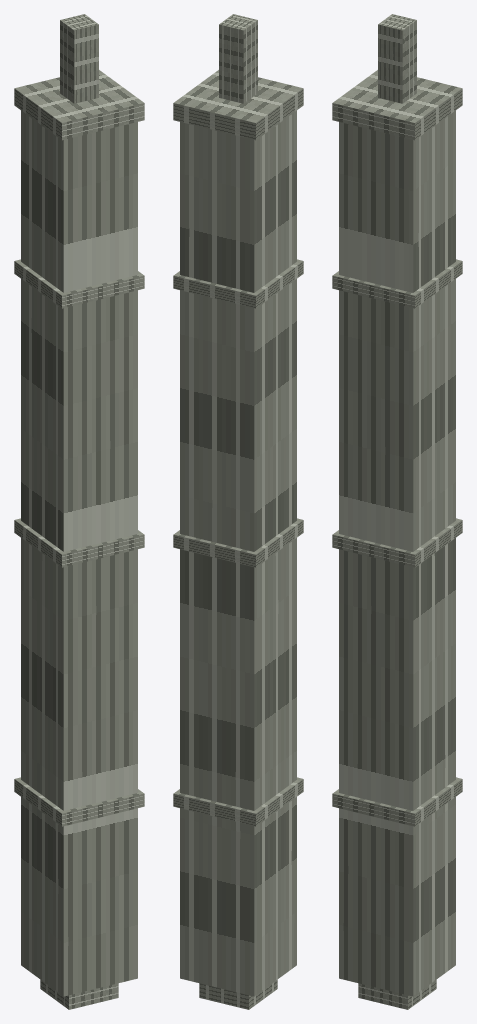
The model's file is body.obj.
3 views of the same model, side by side, from view 1: azimuth 30°, elevation 25°; view 2: azimuth 150°, elevation 25°; view 3: azimuth 330°, elevation 25° (orthographic).
Size of the model in its own units: 0.4 by 4.5 by 0.4.
